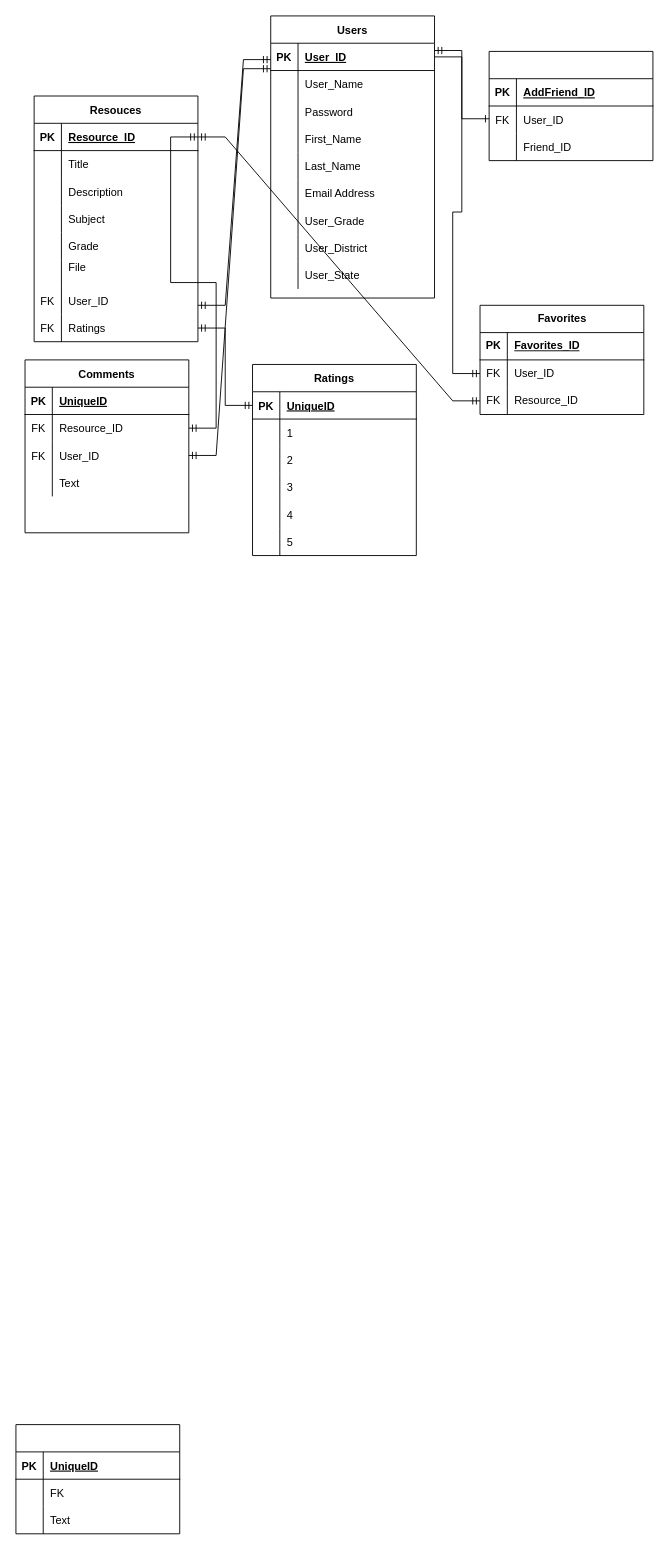
Image size: 669x1550. Some labels were removed from this diagram. The shapes that lost their labels are listed below. From the top down, each one's box as (x1, y1, x2, y2) in pixels, then its label:
(488, 51, 653, 161): Friends_LIst
(15, 1424, 180, 1534): Reply
